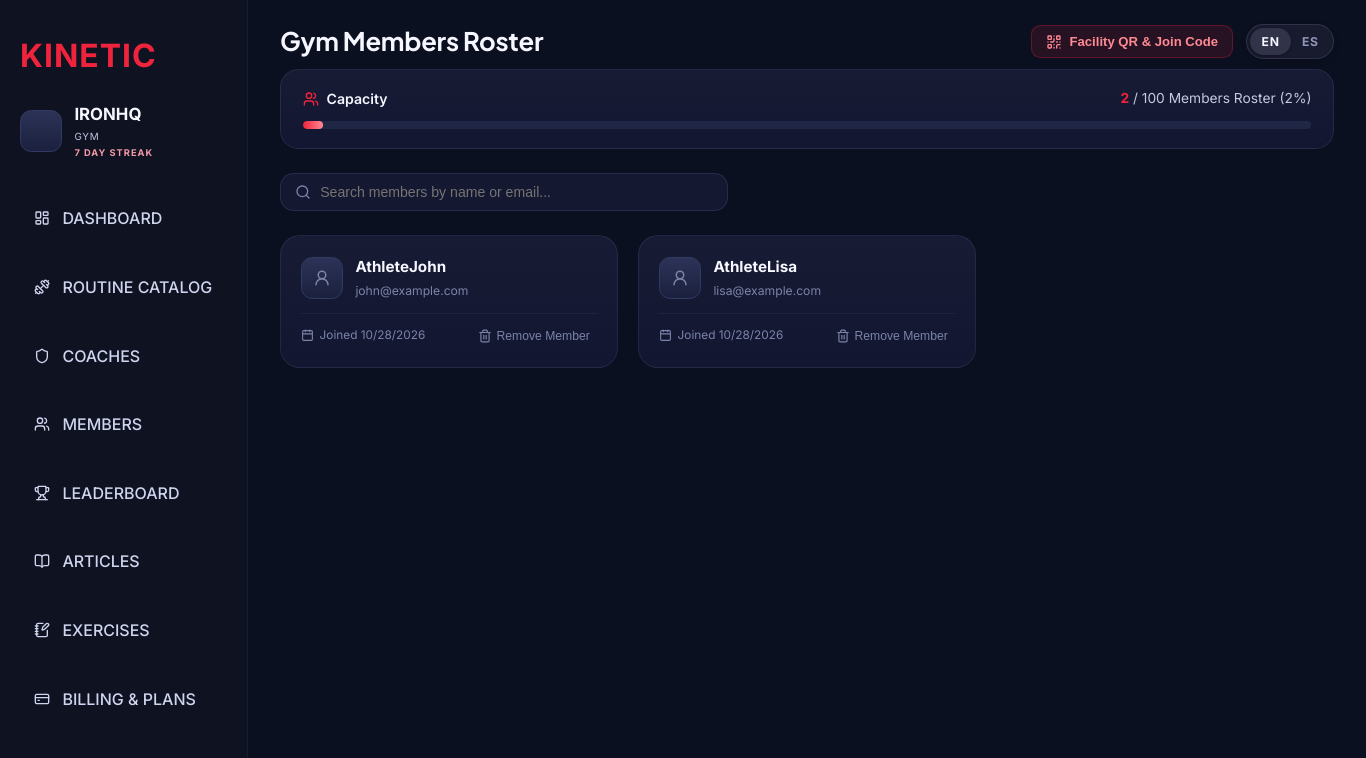
Test: Gym Pages › GymMembersPage › renders capacity usage and members list with search filtering
Expected: the element with test id "gym-capacity-card" is shown, x1=280 y1=69 x2=1334 y2=149
Expected: the heading "AthleteJohn" is shown, x1=355 y1=258 x2=446 y2=276
# Search filter
In the field: (504, 192) x1=280 y1=173 x2=728 y2=212, type "john"
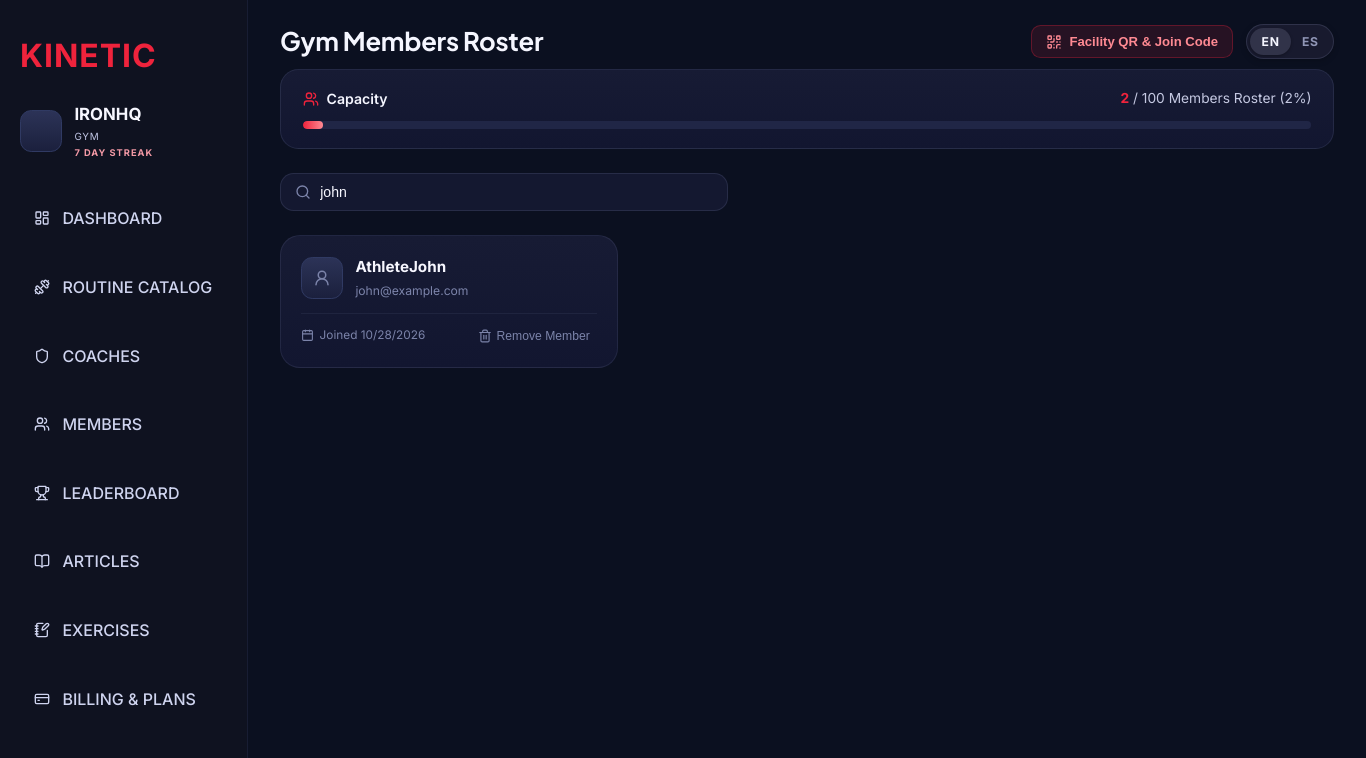
Expected: the heading "AthleteJohn" is shown, x1=355 y1=258 x2=446 y2=276
Now the heading "AthleteLisa" is gone
